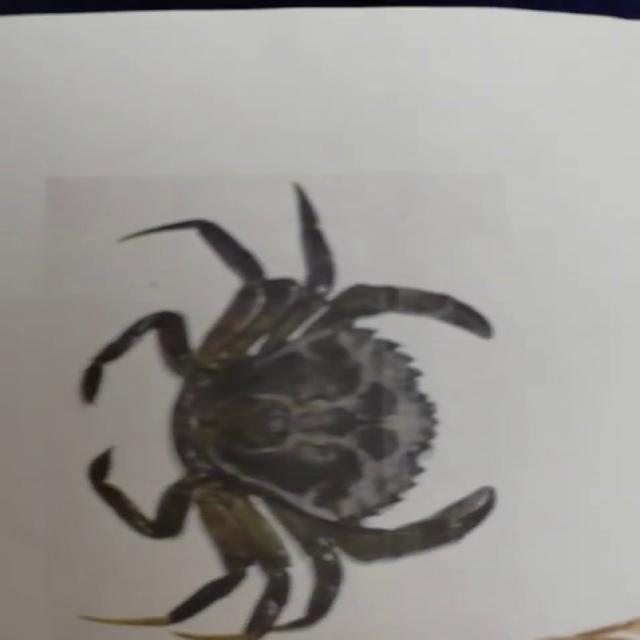egc: (82, 184, 495, 639)
